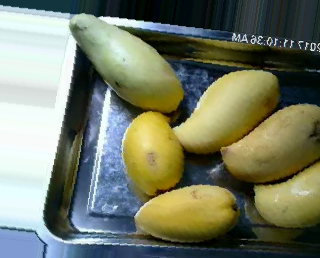Mango: (66, 10, 185, 112), (169, 66, 281, 158), (220, 100, 320, 181), (135, 180, 241, 247), (119, 110, 189, 195), (252, 158, 319, 229)
